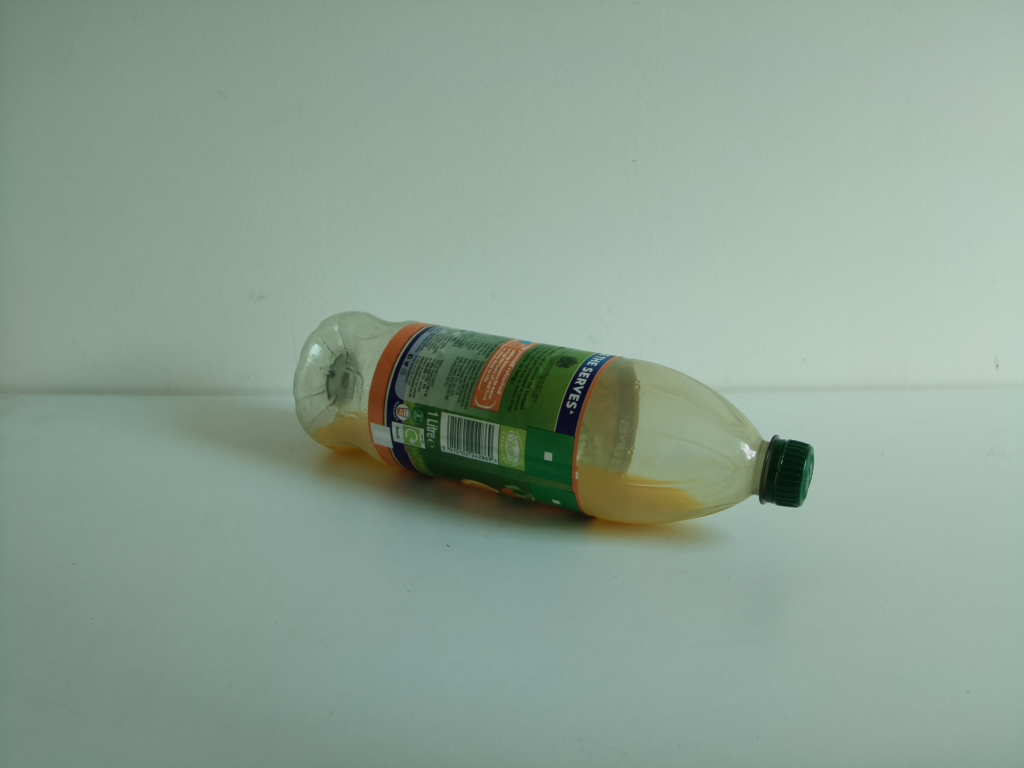juice: (294, 305, 819, 533)
